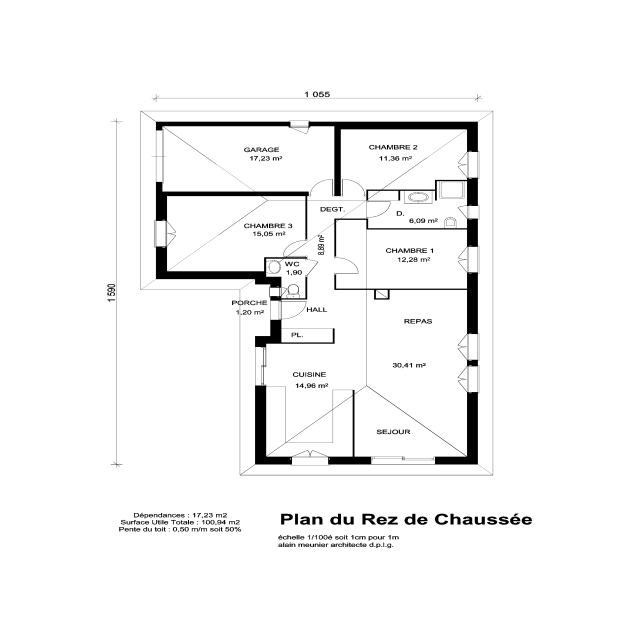door: (276, 300, 308, 320), (332, 255, 362, 275), (307, 176, 336, 196), (340, 177, 364, 196), (288, 120, 313, 138), (366, 200, 392, 217), (458, 204, 479, 220)
window: (150, 127, 170, 187), (366, 455, 438, 465), (153, 216, 172, 250), (465, 148, 481, 180), (464, 331, 480, 363), (465, 244, 480, 275), (460, 203, 479, 220)
zone: (260, 341, 473, 459), (159, 124, 338, 194), (164, 194, 314, 273), (338, 127, 472, 191), (335, 228, 472, 290), (366, 192, 471, 228), (268, 256, 304, 300)
